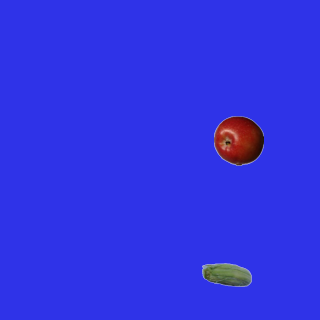Apple Braeburn: (213, 115, 263, 165)
Corn Husk: (201, 251, 251, 301)
